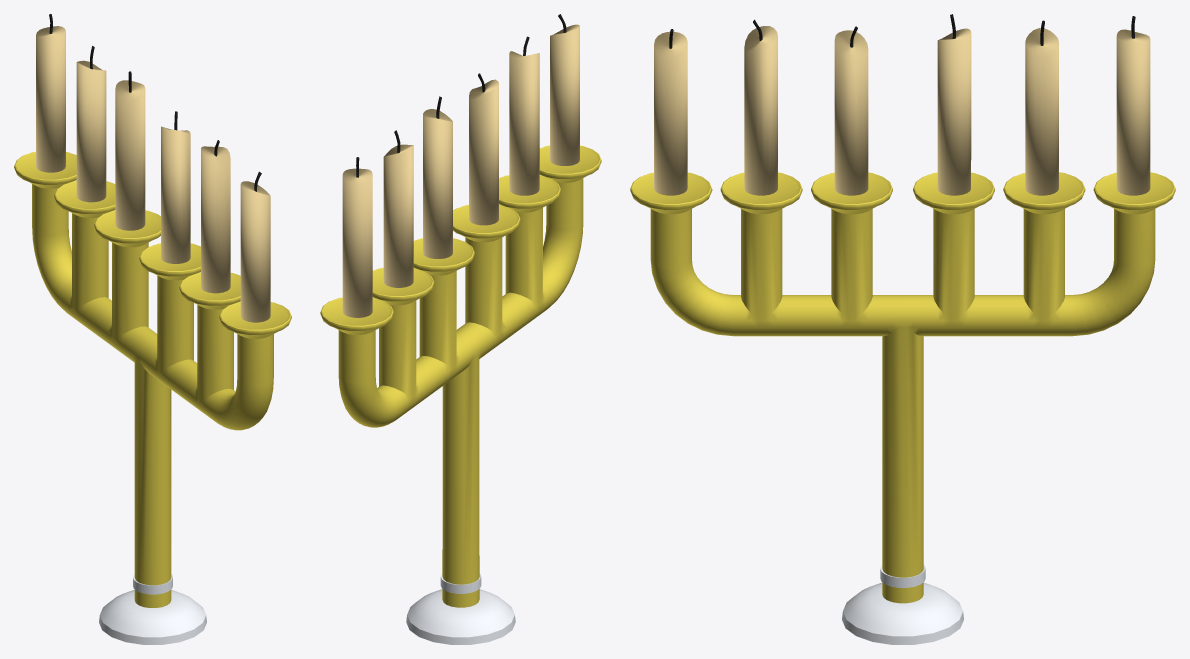
Rendered from candelabro.fbx.
The picture shows the model from 3 angles, left to right: view 1: azimuth 30°, elevation 25°; view 2: azimuth 150°, elevation 25°; view 3: azimuth 270°, elevation 25°; orthographic projection. The views are drawn at different scales.
Visible parts, largest first — view 1: Candelabro, Vela4, Vela2, Vela6, Vela5, Vela1, Vela3; view 2: Candelabro, Vela6, Vela2, Vela4, Vela5, Vela3, Vela1; view 3: Candelabro, Vela6, Vela4, Vela3, Vela2, Vela5, Vela1.
Part boxes in pixels (x1,y1,x2,y2): Candelabro: (14,151,291,644); Vela4: (115,71,145,230); Vela2: (201,140,230,293); Vela6: (36,14,65,172); Vela5: (76,46,106,202); Vela1: (240,171,270,322); Vela3: (161,111,190,263); Candelabro: (320,145,601,644); Vela6: (342,157,372,317); Vela2: (509,36,539,195); Vela4: (423,96,452,258); Vela5: (383,130,413,287); Vela3: (469,73,498,225); Vela1: (550,14,579,165); Candelabro: (630,172,1175,644); Vela6: (1116,16,1150,195); Vela4: (937,14,971,195); Vela3: (834,26,868,195); Vela2: (744,19,777,195); Vela5: (1025,20,1058,195); Vela1: (654,29,687,195).
Size of the model in its own units: 301 by 1670 by 1365.
